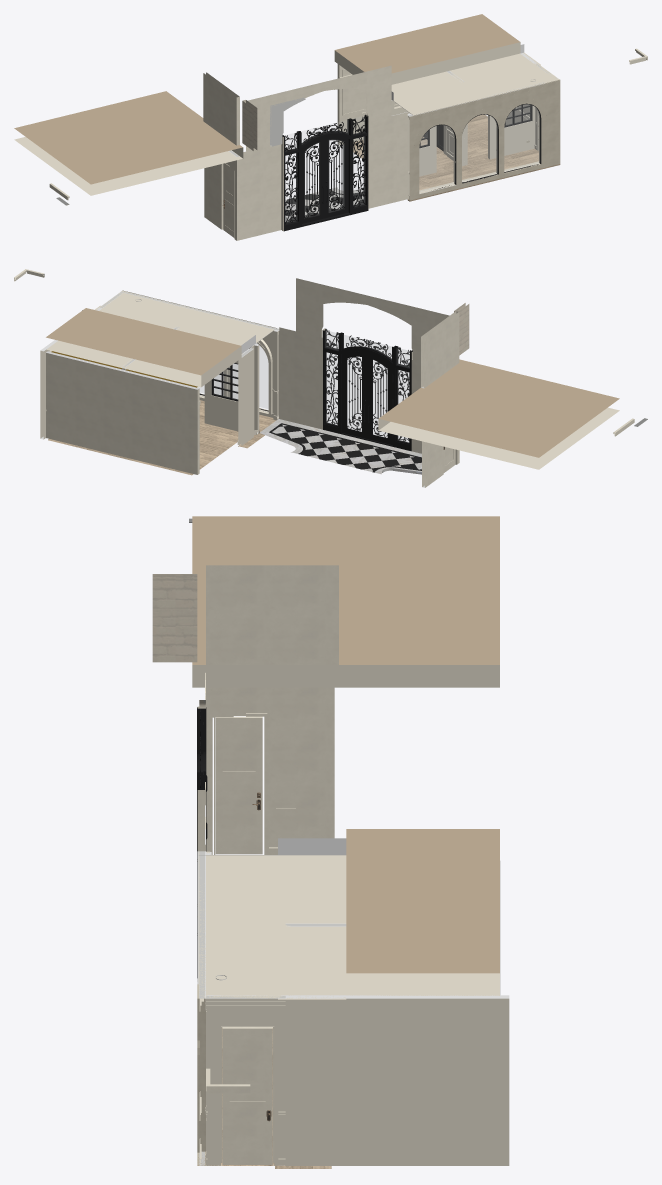
Rendered from office-hall-571943f51139.glb.
3 views of the same model, one above another, from view 1: azimuth 30°, elevation 25°; view 2: azimuth 150°, elevation 25°; view 3: azimuth 270°, elevation 25° (orthographic). The views are drawn at different scales.
Parts seen in each view (by area): view 1: office-hall-look-2575515a05775d9e, office-hall-look-d5a4a1b5d3594c04, office-hall-c9e78b9ec1bb39cd, office-hall-dbd60ee5c3733ed6, office-hall-look-34525a54e63b733b, office-hall-look-bce662e26d5a5947, office-hall-38561c12898e4d43, office-hall-c02a36d0521470a9, office-hall-5cbcc744e6f960f3, office-hall-look-746250f96522f643, office-hall-look-dbd60ee5c3733ed6, office-hall-c374268555806af8 (+19 smaller); view 2: office-hall-look-2575515a05775d9e, office-hall-look-19647d6da46c2b80, office-hall-look-d5a4a1b5d3594c04, office-hall-look-34525a54e63b733b, office-hall-dbd60ee5c3733ed6, office-hall-look-e388ad8855329420, office-hall-look-3231f73bae020736, office-hall-look-bce662e26d5a5947, office-hall-look-746250f96522f643, office-hall-look-b3086b8cd368d7da, office-hall-look-26f615ec640e02ab, office-hall-look-6a051330000fbca1 (+18 smaller); view 3: office-hall-look-2575515a05775d9e, office-hall-look-6a1144f4e43410bb, office-hall-look-746250f96522f643, office-hall-look-85f0fd939e0fcc78, office-hall-dbd60ee5c3733ed6, office-hall-look-dbd60ee5c3733ed6, office-hall-cf6d22c5317ced0b, office-hall-look-3322bc58bedf5620, office-hall-68d06b361ac47823, office-hall-look-5e296beffb47d853, office-hall-c9e78b9ec1bb39cd, office-hall-look-bce662e26d5a5947.
Boxes of the visible parts, box(x1,y1,x2,y2) form: office-hall-look-2575515a05775d9e: box(14, 14, 520, 195); office-hall-look-d5a4a1b5d3594c04: box(236, 112, 407, 240); office-hall-c9e78b9ec1bb39cd: box(407, 82, 545, 200); office-hall-dbd60ee5c3733ed6: box(392, 63, 559, 115); office-hall-look-34525a54e63b733b: box(246, 65, 391, 151); office-hall-look-bce662e26d5a5947: box(282, 114, 368, 231); office-hall-38561c12898e4d43: box(419, 125, 454, 191); office-hall-c02a36d0521470a9: box(462, 115, 497, 180); office-hall-5cbcc744e6f960f3: box(504, 104, 539, 170); office-hall-look-746250f96522f643: box(203, 72, 239, 145); office-hall-look-dbd60ee5c3733ed6: box(391, 44, 540, 100); office-hall-c374268555806af8: box(407, 148, 560, 201); office-hall-look-2575515a05775d9e: box(46, 308, 619, 469); office-hall-look-19647d6da46c2b80: box(46, 351, 199, 474); office-hall-look-d5a4a1b5d3594c04: box(279, 327, 459, 462); office-hall-look-34525a54e63b733b: box(296, 278, 449, 361); office-hall-dbd60ee5c3733ed6: box(99, 290, 276, 346); office-hall-look-e388ad8855329420: box(272, 424, 421, 471); office-hall-look-3231f73bae020736: box(341, 351, 367, 438); office-hall-look-bce662e26d5a5947: box(323, 328, 412, 451); office-hall-look-746250f96522f643: box(421, 311, 459, 388); office-hall-look-b3086b8cd368d7da: box(325, 331, 409, 442); office-hall-look-26f615ec640e02ab: box(367, 352, 393, 445); office-hall-look-6a051330000fbca1: box(238, 347, 253, 445); office-hall-look-2575515a05775d9e: box(192, 516, 499, 995); office-hall-look-6a1144f4e43410bb: box(285, 995, 509, 1165); office-hall-look-746250f96522f643: box(206, 565, 338, 664); office-hall-look-85f0fd939e0fcc78: box(206, 687, 334, 854); office-hall-dbd60ee5c3733ed6: box(198, 855, 292, 998); office-hall-look-dbd60ee5c3733ed6: box(278, 838, 346, 999); office-hall-cf6d22c5317ced0b: box(222, 1028, 272, 1164); office-hall-look-3322bc58bedf5620: box(215, 716, 262, 854); office-hall-68d06b361ac47823: box(206, 995, 285, 1165); office-hall-look-5e296beffb47d853: box(152, 574, 197, 662); office-hall-c9e78b9ec1bb39cd: box(197, 851, 205, 1151); office-hall-look-bce662e26d5a5947: box(197, 707, 206, 977).
Bounding box in the file's own units: 21.96 × 5.17 × 5.78.
32 materials, 7 textured.
